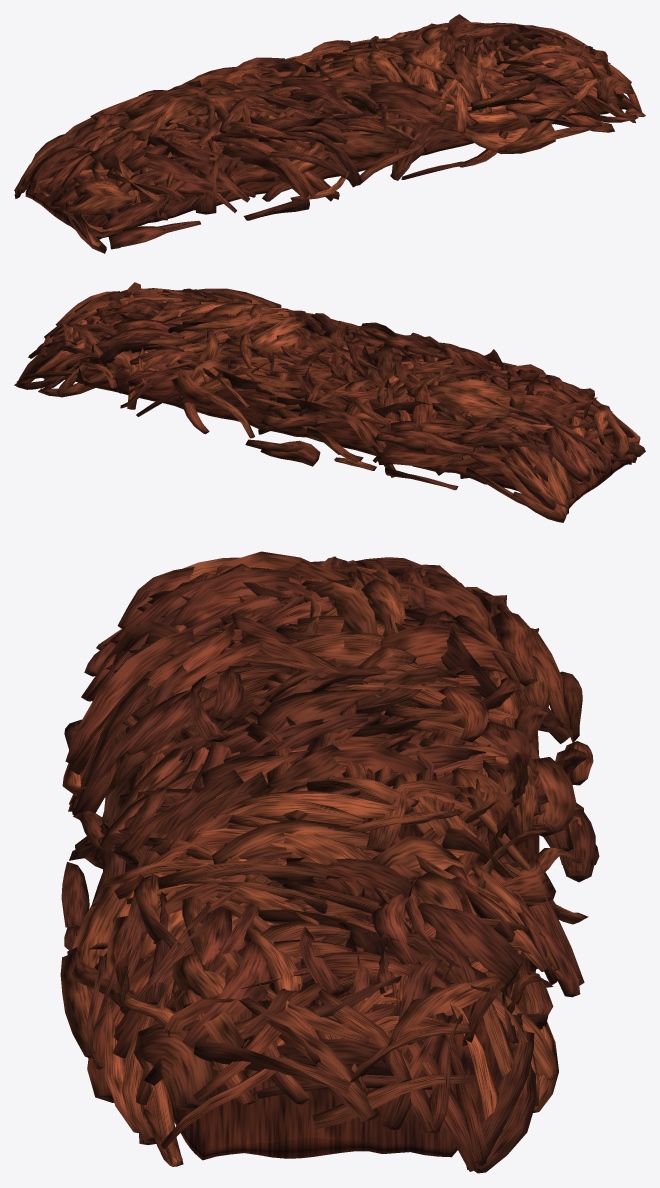
The model's file is costela.glb.
3 renders of one model, top to bottom at view 1: azimuth 30°, elevation 25°; view 2: azimuth 150°, elevation 25°; view 3: azimuth 270°, elevation 25°, orthographic. The views are drawn at different scales.
Visible parts, largest first — view 1: costela_fiapos; view 2: costela_fiapos; view 3: costela_fiapos.
Part boxes in pixels (bbox=[...]): costela_fiapos: bbox=[14, 14, 645, 253]; costela_fiapos: bbox=[14, 282, 645, 522]; costela_fiapos: bbox=[60, 551, 599, 1173].
Size of the model in its own units: 0.2832 by 0.0434 by 0.1188.
Materials: 1 (1 with a texture image).
